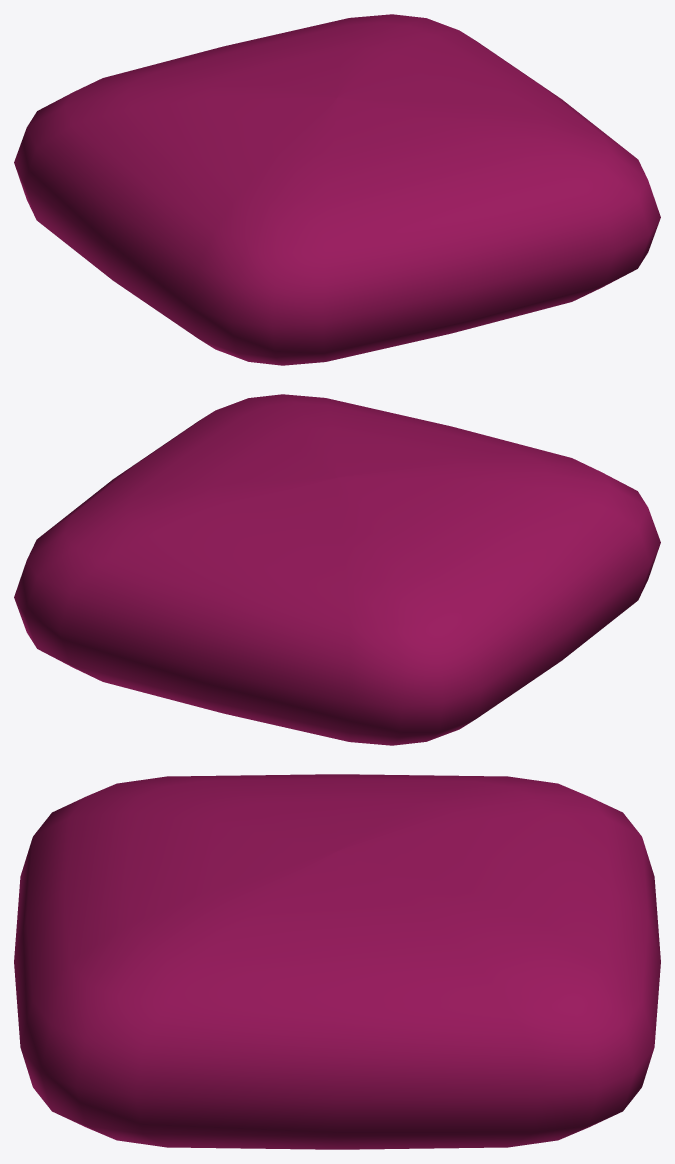
Rendered from KIT_Almofada.glb.
3 views of the same model, one above another, from view 1: azimuth 30°, elevation 25°; view 2: azimuth 150°, elevation 25°; view 3: azimuth 270°, elevation 25° (orthographic). The views are drawn at different scales.
Visible parts, largest first — view 1: KIT_Almofada; view 2: KIT_Almofada; view 3: KIT_Almofada.
Part boxes in pixels (<box>): KIT_Almofada: <box>14,14,660,365</box>; KIT_Almofada: <box>14,394,660,745</box>; KIT_Almofada: <box>14,774,660,1149</box>.
Bounding box in the file's own units: 0.45 × 0.17 × 0.45.
